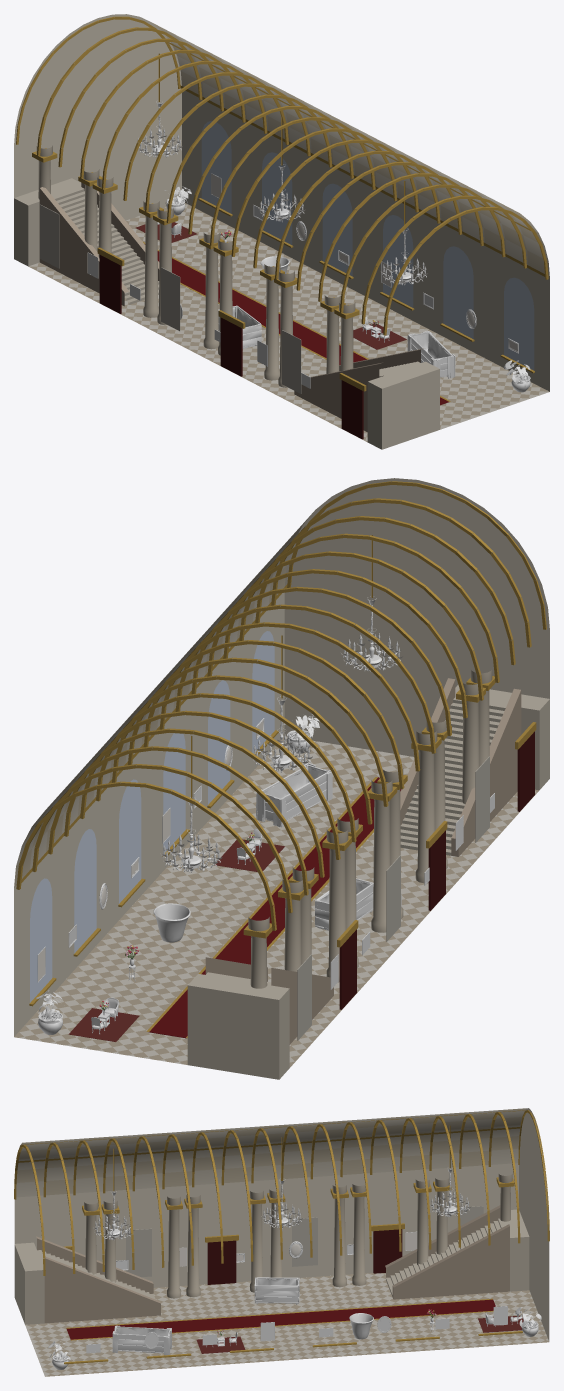
The model's file is opera_int.glb.
3 views of the same model, one above another, from view 1: azimuth 30°, elevation 25°; view 2: azimuth 150°, elevation 25°; view 3: azimuth 270°, elevation 25° (orthographic). The views are drawn at different scales.
Parts seen in each view (by area): view 1: I_x_plaster, I_x_marble_white, I_x_gold, I_sky, I_x_veneer, I_chrome, I_x_carpet_red, I_p_Chandelier_03__0, I_p_planter_box_02__0, I_crystal, I_p_planter_box_01__0, I_p_hanging_picture_frame_01__2 (+1 smaller); view 2: I_x_marble_white, I_x_plaster, I_x_gold, I_sky, I_x_carpet_red, I_x_veneer, I_chrome, I_p_Chandelier_03__0, I_p_planter_box_02__0, I_crystal, I_p_planter_box_01__0, I_p_planter_pot_clay__0 (+1 smaller); view 3: I_x_plaster, I_x_marble_white, I_x_gold, I_x_carpet_red, I_chrome, I_x_veneer, I_p_Chandelier_03__0, I_p_planter_box_02__0, I_p_planter_box_01__0, I_crystal, I_p_hanging_picture_frame_01__2, I_p_hanging_picture_frame_03__0 (+4 smaller).
Part boxes in pixels (x1,y1,x2,y2): I_x_plaster: (14, 14, 549, 391); I_x_marble_white: (14, 145, 549, 449); I_x_gold: (16, 16, 548, 401); I_sky: (201, 121, 534, 370); I_x_veneer: (99, 255, 363, 439); I_chrome: (40, 204, 301, 393); I_x_carpet_red: (135, 222, 448, 405); I_p_Chandelier_03__0: (137, 101, 426, 285); I_p_planter_box_02__0: (407, 331, 455, 378); I_crystal: (135, 135, 517, 350); I_p_planter_box_01__0: (218, 305, 261, 348); I_p_hanging_picture_frame_01__2: (87, 173, 391, 366); I_x_marble_white: (14, 669, 549, 1079); I_x_plaster: (14, 478, 549, 1036); I_x_gold: (16, 481, 546, 1038); I_sky: (30, 631, 274, 1002); I_x_carpet_red: (68, 777, 401, 1041); I_x_veneer: (339, 731, 534, 1009); I_chrome: (297, 756, 489, 1040); I_p_Chandelier_03__0: (162, 596, 400, 872); I_p_planter_box_02__0: (256, 763, 332, 827); I_crystal: (38, 642, 402, 981); I_p_planter_box_01__0: (315, 878, 373, 930); I_p_planter_pot_clay__0: (153, 903, 190, 942); I_x_plaster: (14, 1108, 549, 1341); I_x_marble_white: (14, 1174, 548, 1376); I_x_gold: (14, 1110, 549, 1364); I_x_carpet_red: (66, 1299, 523, 1353); I_chrome: (126, 1206, 483, 1277); I_x_veneer: (207, 1229, 402, 1284); I_p_Chandelier_03__0: (94, 1167, 469, 1240); I_p_planter_box_02__0: (112, 1325, 171, 1355); I_p_planter_box_01__0: (254, 1277, 299, 1304); I_crystal: (93, 1197, 470, 1266); I_p_hanging_picture_frame_01__2: (179, 1231, 507, 1341); I_p_hanging_picture_frame_03__0: (144, 1241, 391, 1348).
Bounding box in the file's own units: 20.54 × 15.95 × 40.85.
